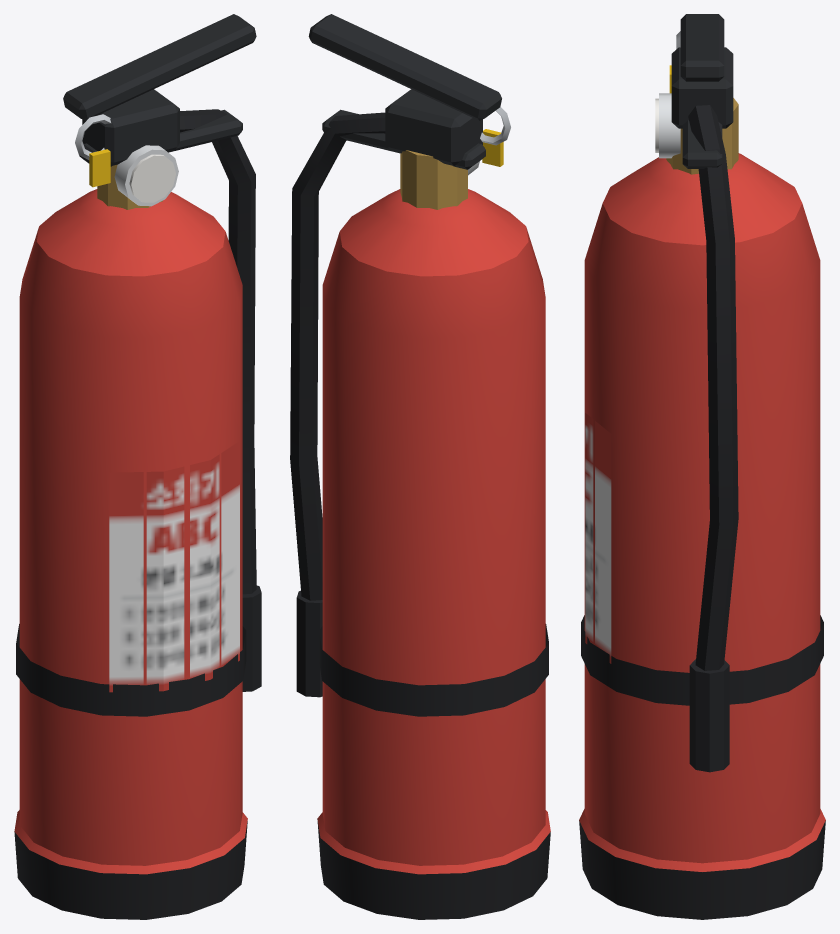
The model's file is SC_Fix_Fire_Extinguisher.gltf.
The picture shows the model from 3 angles, left to right: view 1: azimuth 30°, elevation 25°; view 2: azimuth 150°, elevation 25°; view 3: azimuth 270°, elevation 25°; orthographic projection. The views are drawn at different scales.
Visible parts, largest first — view 1: SC_Fix_Fire_Extinguisher; view 2: SC_Fix_Fire_Extinguisher; view 3: SC_Fix_Fire_Extinguisher.
Part boxes in pixels (x1,y1,x2,y2): SC_Fix_Fire_Extinguisher: [14, 14, 261, 919]; SC_Fix_Fire_Extinguisher: [290, 14, 550, 919]; SC_Fix_Fire_Extinguisher: [579, 14, 825, 919].
Size of the model in its own units: 0.156 by 0.526 by 0.136.
Materials: 2 (2 with a texture image).
